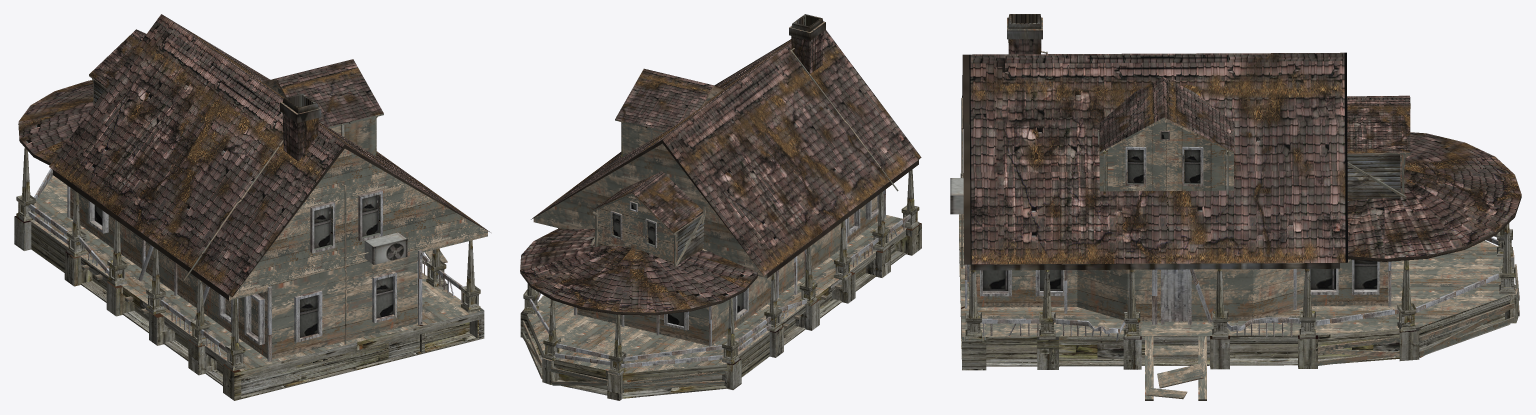
The model's file is low_poly_house.glb.
3 views of the same model, side by side, from view 1: azimuth 30°, elevation 25°; view 2: azimuth 150°, elevation 25°; view 3: azimuth 270°, elevation 25° (orthographic). The views are drawn at different scales.
Visible parts, largest first — view 1: pCube3; view 2: pCube3; view 3: pCube3.
Part boxes in pixels (x1,y1,x2,y2): pCube3: (14, 14, 490, 400); pCube3: (520, 14, 921, 400); pCube3: (950, 14, 1521, 400).
Bounding box in the file's own units: 526 × 408 × 759.
6 materials, 6 textured.
